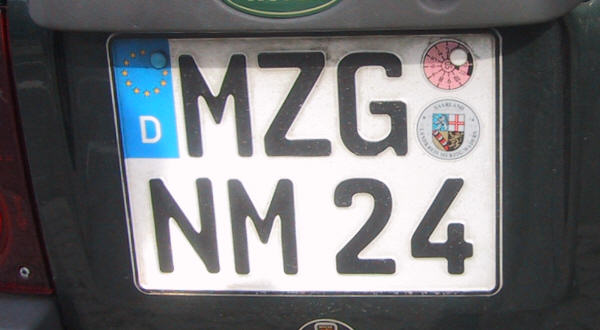license_plate: (105, 30, 504, 297)
